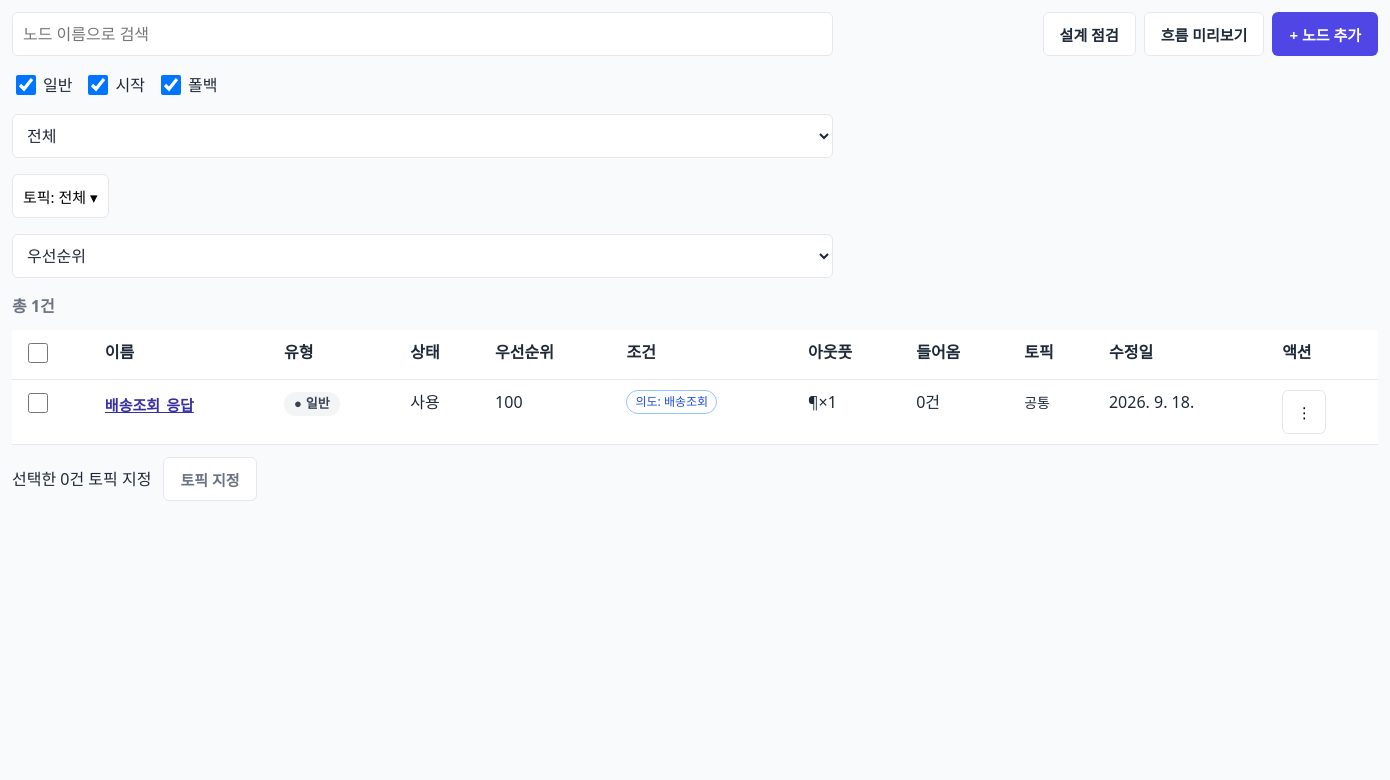
Test case: NodesListPage › 복사 시 excludedLegacySurveyOutputCount > 0이면 토스트에 이전 형식 설문 연결 제외 안내가 함께 뜬다
Expected: the button "배송조회_응답" is shown, [105,390,194,419]
Click the button named "배송조회_응답 관리" at (1304, 412), box [1282,390,1326,434]
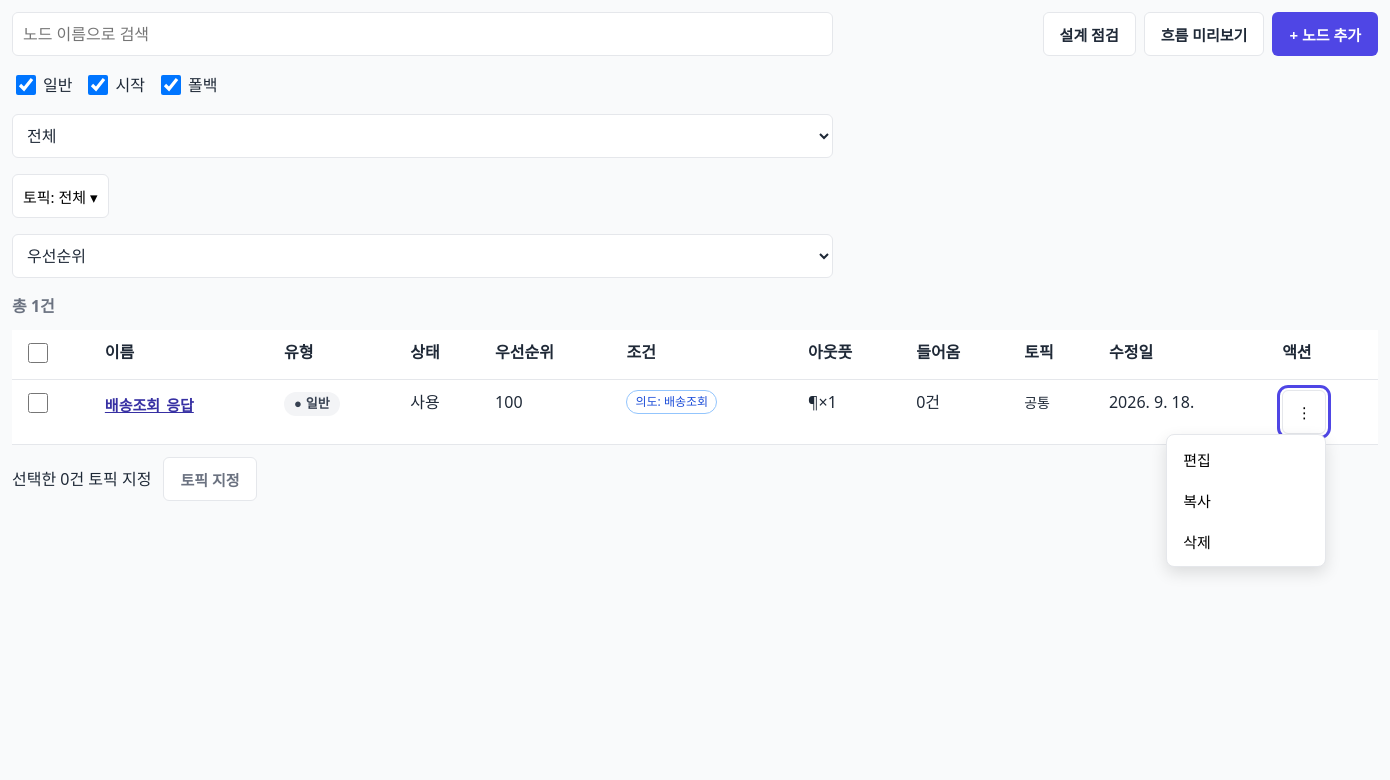
Click the menu item "복사" at (1246, 500), box [1171,480,1321,521]
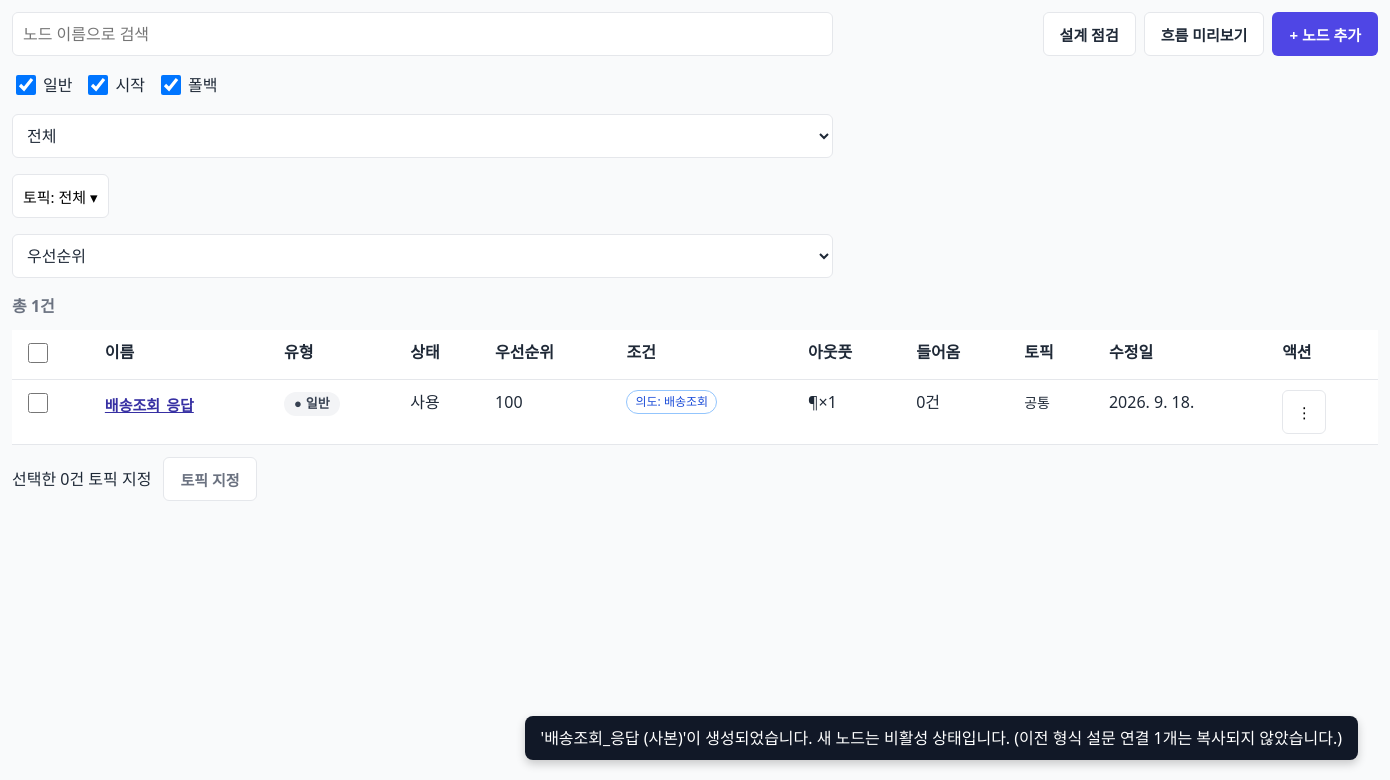
Expected: the text "'배송조회_응답 (사본)'이 생성되었습니다. 새 노드는 비활성 상태입니다. (이전 형식 설문 연결 1개는 복사되지 않았습니다.)" is shown, [524,716,1358,760]
